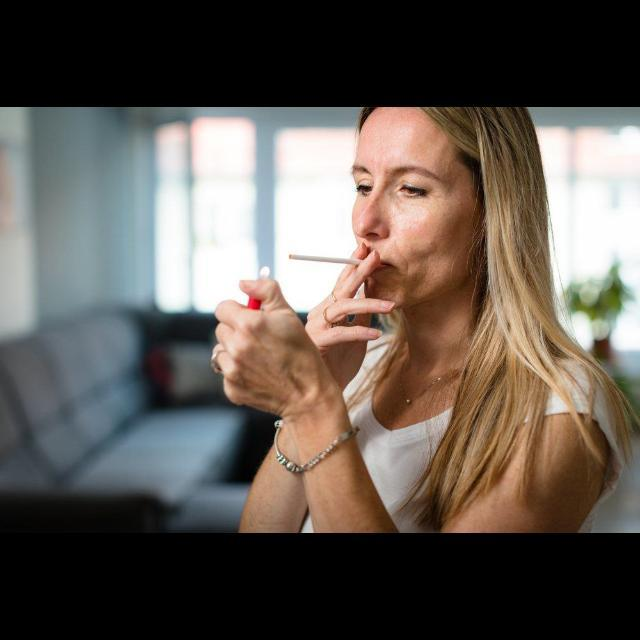rokok: (285, 252, 367, 274)
